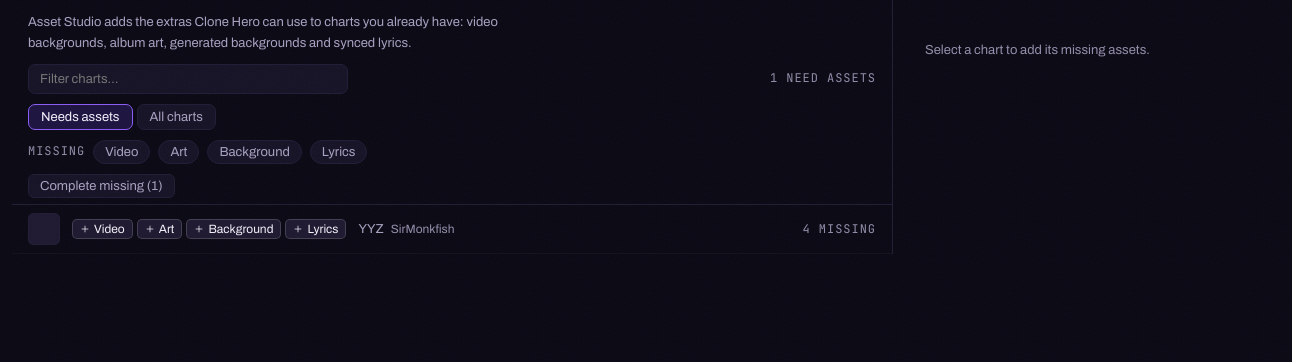
Test case: Asset Studio names written in Clone Hero markup › draws the detail pane heading and artist as text
Step 1. Click the button "Video Art Background Lyrics YYZ SirMonkfish 4 MISSING" → click(452, 229), box [12,205,892,254]
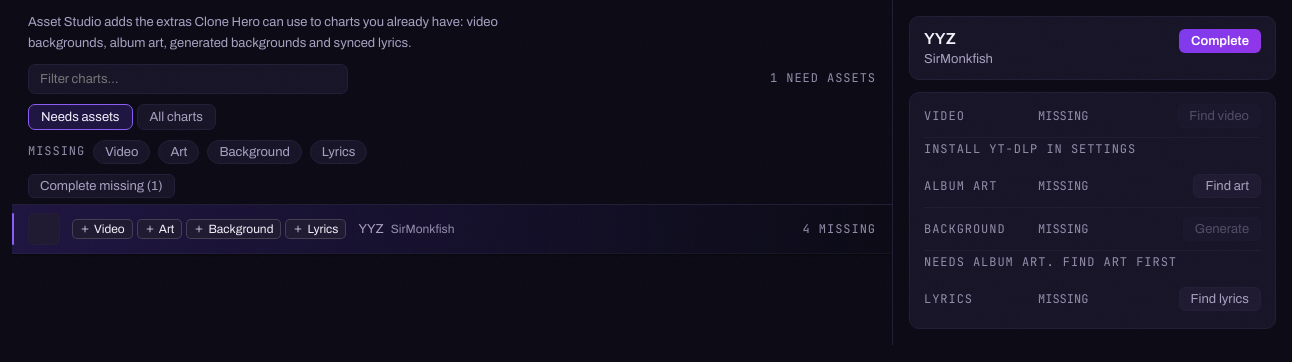
Result: the text with class "d-title" reads "YYZ" at [924,30,956,47]
Result: the text with class "d-artist" reads "SirMonkfish" at [924,52,993,66]
